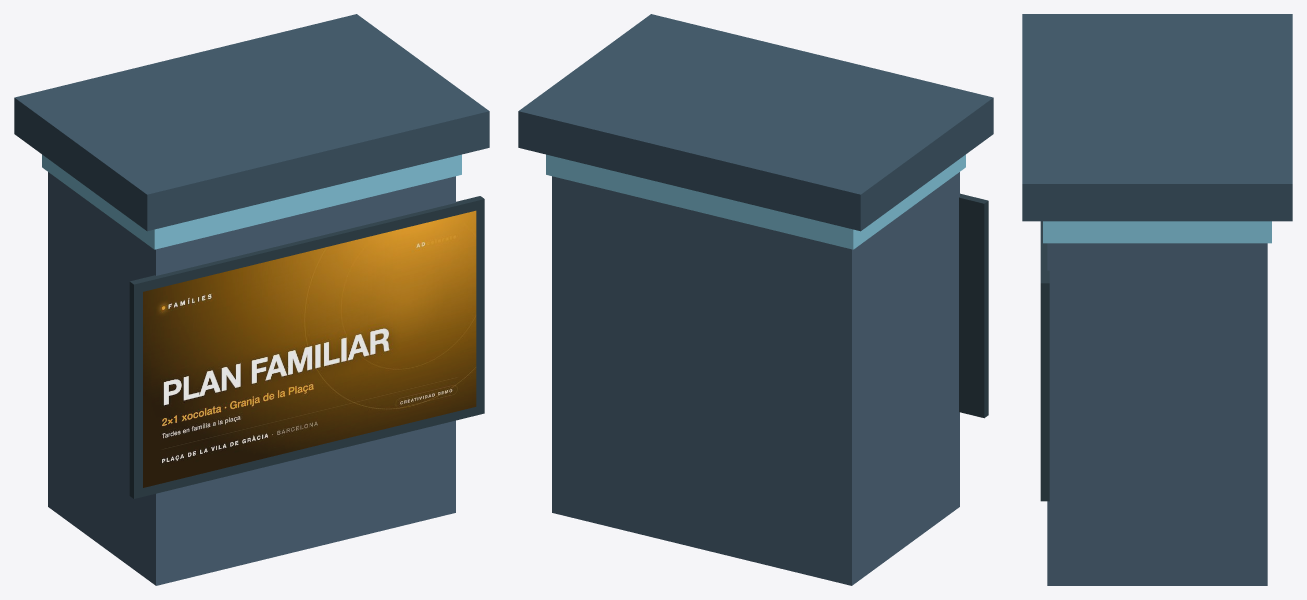
Rendered from kiosk-familias.glb.
The picture shows the model from 3 angles, left to right: view 1: azimuth 30°, elevation 25°; view 2: azimuth 150°, elevation 25°; view 3: azimuth 270°, elevation 25°; orthographic projection.
Parts seen in each view (by area): view 1: kiosk; view 2: kiosk; view 3: kiosk.
Boxes of the visible parts, left/top/right/bottom form: kiosk: left=14, top=14, right=489, bottom=585; kiosk: left=518, top=14, right=993, bottom=585; kiosk: left=1022, top=14, right=1292, bottom=585.
Size of the model in its own units: 2.81 by 3.1 by 1.84.
Materials: 5 (1 with a texture image).
